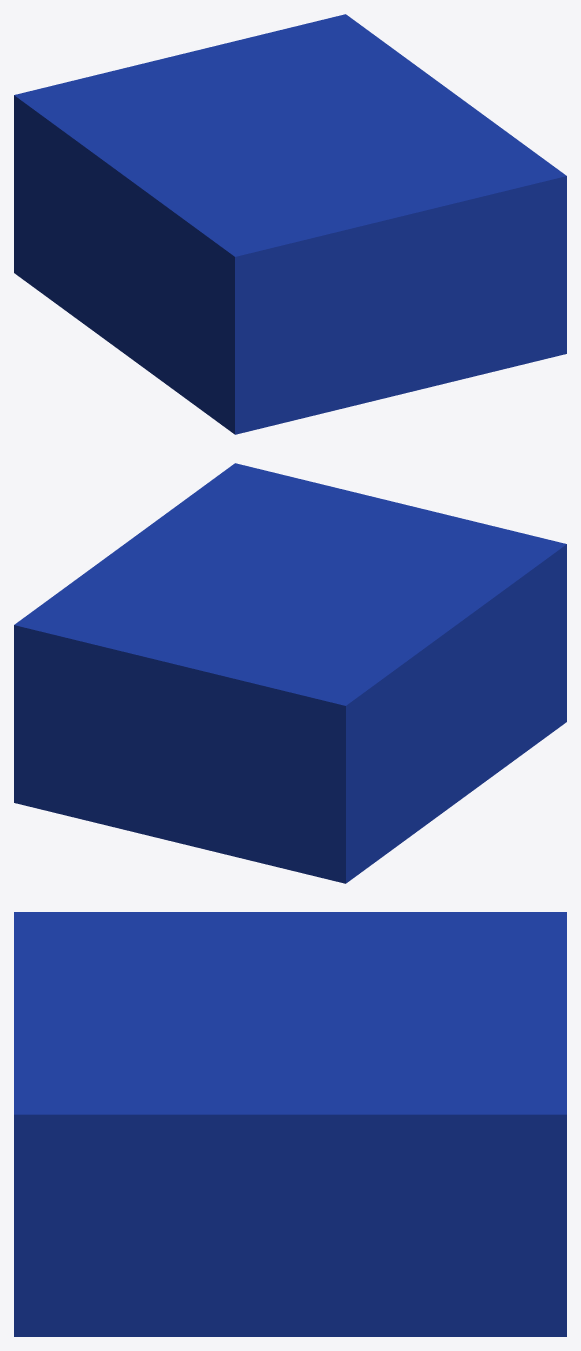
3 views of the same model, one above another, from view 1: azimuth 30°, elevation 25°; view 2: azimuth 150°, elevation 25°; view 3: azimuth 270°, elevation 25° (orthographic). The views are drawn at different scales.
Visible parts, largest first — view 1: Box001; view 2: Box001; view 3: Box001.
Boxes of the visible parts, <box> form: Box001: <box>14,14,566,434</box>; Box001: <box>14,463,566,883</box>; Box001: <box>14,912,566,1336</box>.
Size of the model in its own units: 736 by 377 by 849.
